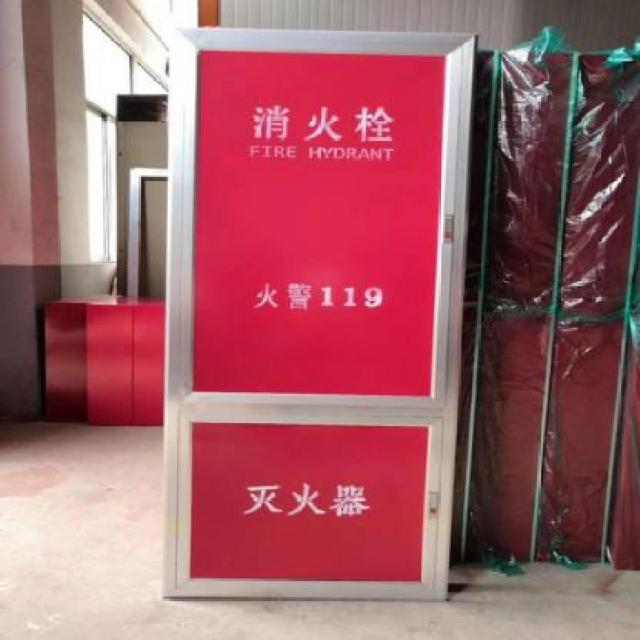firehydrant: (154, 23, 483, 606)
